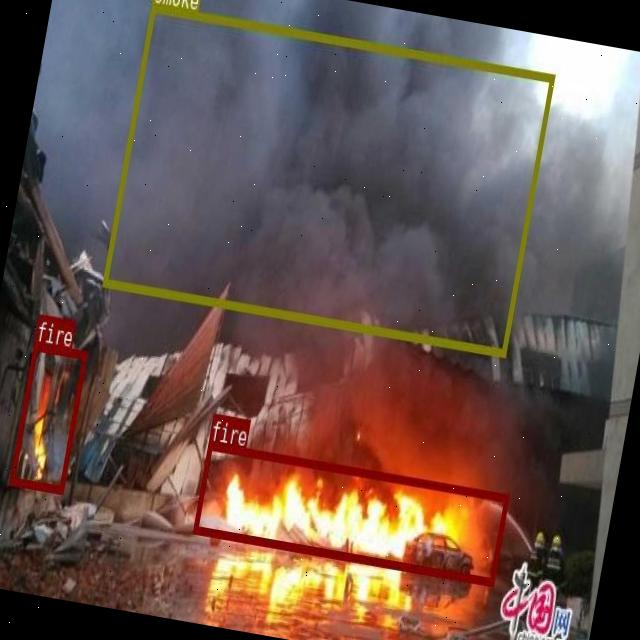fire: (191, 439, 508, 584), (9, 340, 87, 492)
smoke: (102, 2, 553, 354)
